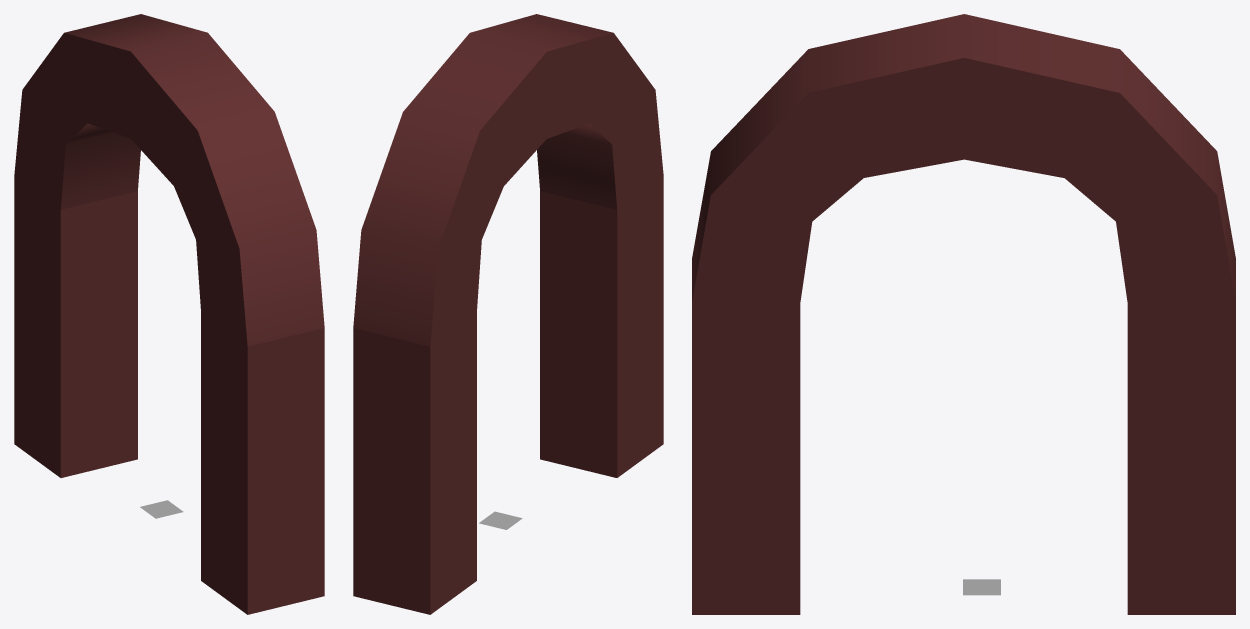
The model's file is Arch1.fbx.
3 renders of one model, left to right at view 1: azimuth 30°, elevation 25°; view 2: azimuth 150°, elevation 25°; view 3: azimuth 270°, elevation 25°, orthographic. The views are drawn at different scales.
Parts seen in each view (by area): view 1: pCube3, pPlane1; view 2: pCube3, pPlane1; view 3: pCube3.
Boxes of the visible parts, x1=… form: pCube3: x1=14, y1=14, x2=324, y2=614; pPlane1: x1=140, y1=500, x2=183, y2=518; pCube3: x1=353, y1=14, x2=663, y2=614; pPlane1: x1=479, y1=511, x2=522, y2=529; pCube3: x1=692, y1=14, x2=1235, y2=614.
Bounding box in the file's own units: 2.75 × 16.28 × 14.4.
